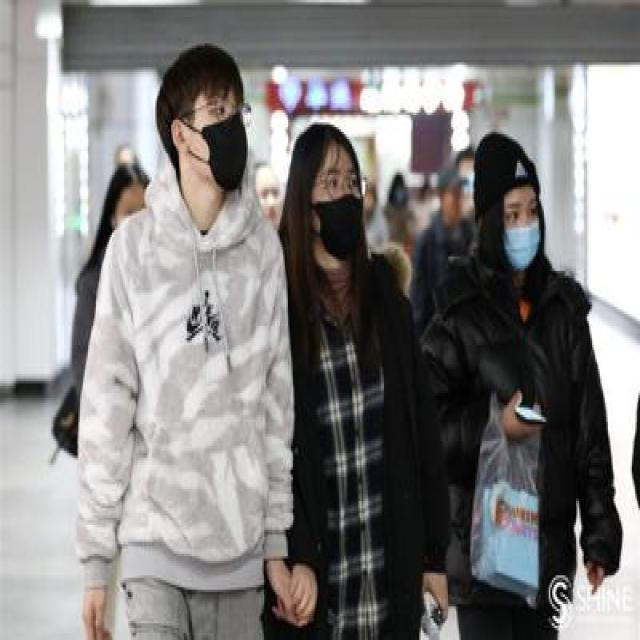with_mask: (190, 95, 251, 191), (315, 162, 363, 262), (505, 193, 540, 269)
without_mask: (257, 186, 284, 234)
